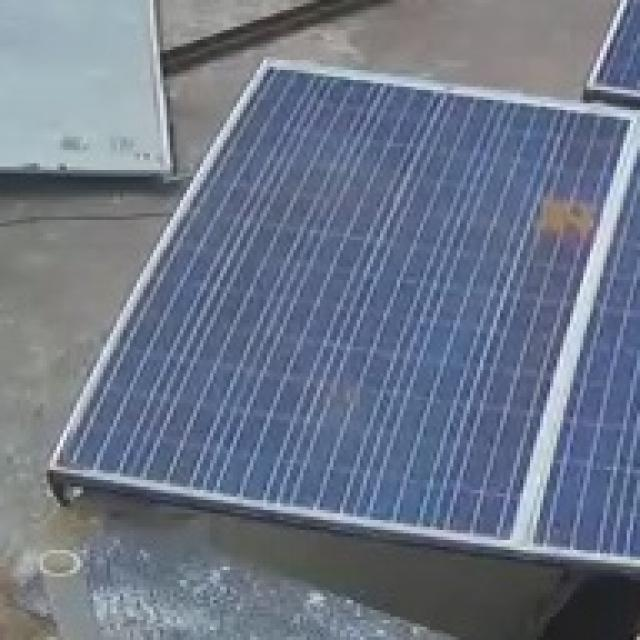Anomaly Solar Panel: (50, 61, 637, 546)
Surface Contaminant: (523, 186, 597, 243)
